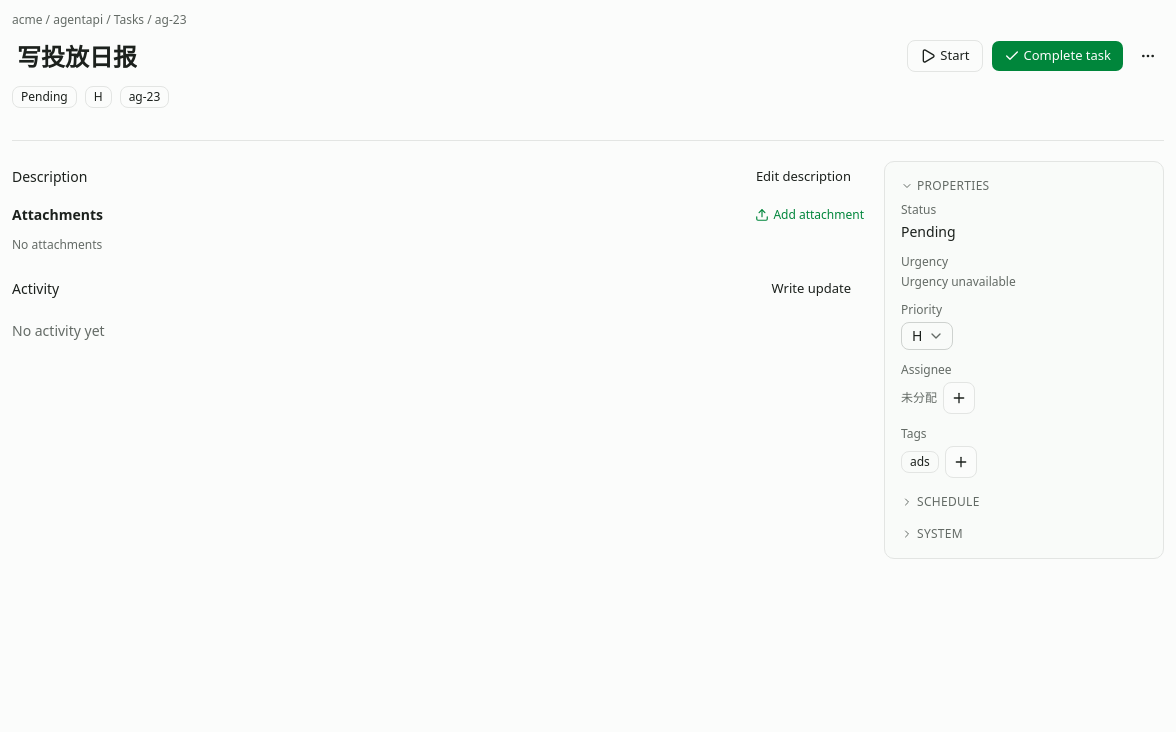
Test case: TaskDetailPage › localizes related-resource and activity entry points in English
Expected: the text "写投放日报" is shown, [17,41,137,73]
Expected: the button "Write update" is shown, [759,273,864,305]
Click the button named "More actions ag-23" at (1148,56), box [1132,40,1164,72]
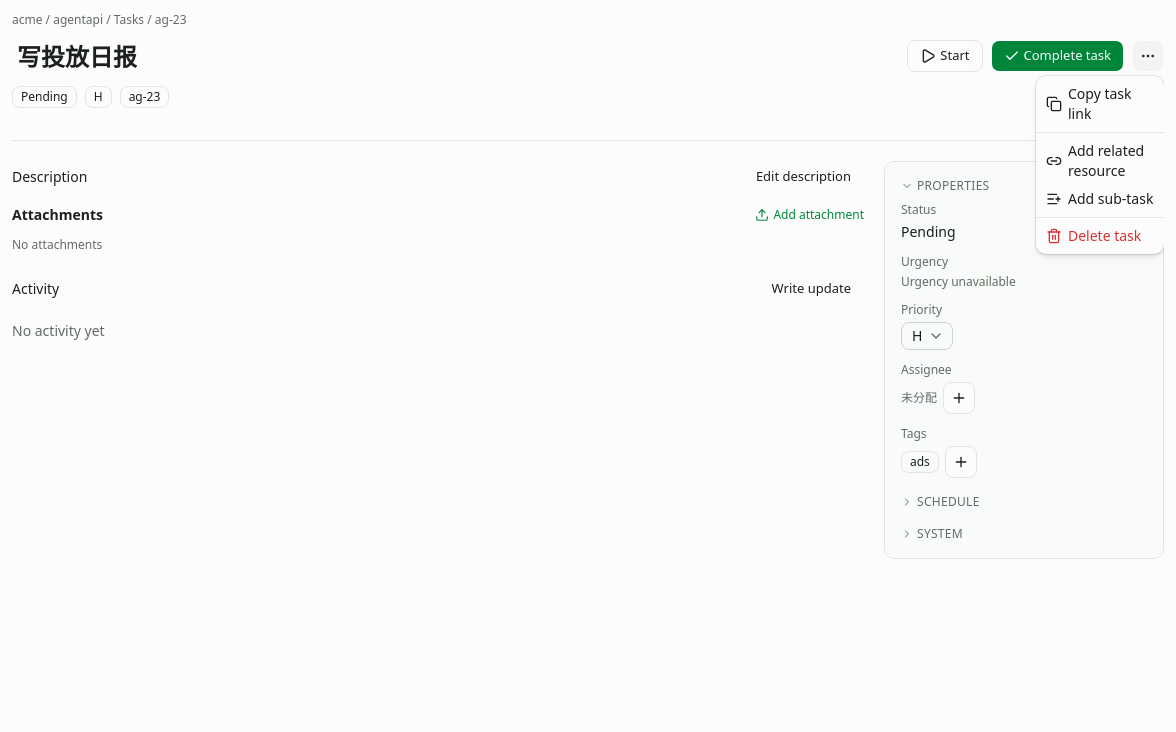
Expected: the menu item "Add related resource" is shown, [1046,141,1144,180]
